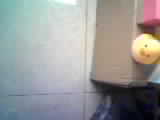duck: (132, 28, 154, 77)
